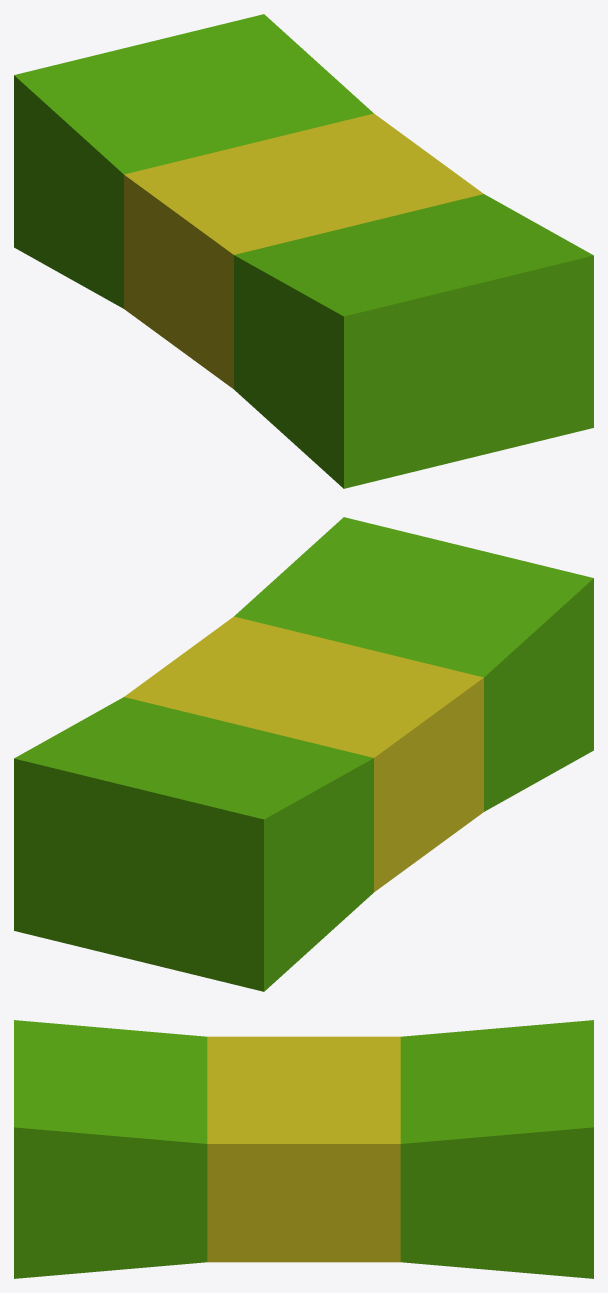
File: Dollar_Pack-Model.fbx
3 views of the same model, one above another, from view 1: azimuth 30°, elevation 25°; view 2: azimuth 150°, elevation 25°; view 3: azimuth 270°, elevation 25° (orthographic). The views are drawn at different scales.
Visible parts, largest first — view 1: Dollar_Pack; view 2: Dollar_Pack; view 3: Dollar_Pack.
Boxes of the visible parts, x1,y1,x2,y2 form: Dollar_Pack: (14,14,593,488); Dollar_Pack: (14,517,593,991); Dollar_Pack: (14,1020,593,1278).
Size of the model in its own units: 122 by 80.29 by 279.
